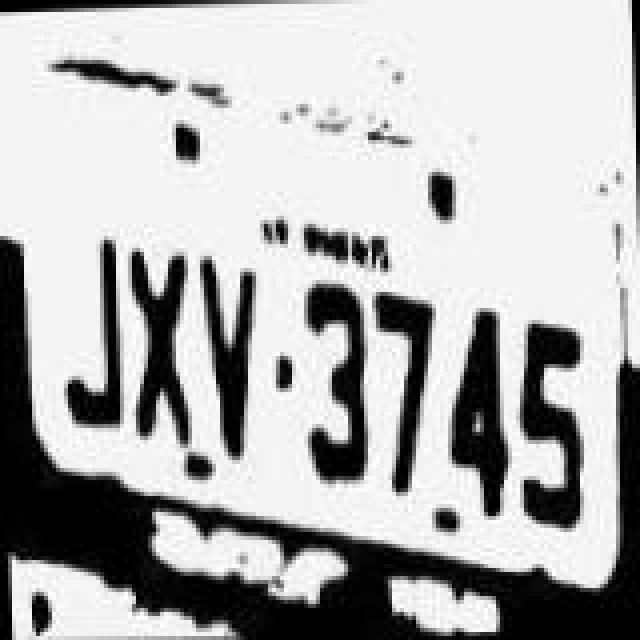3: (292, 270, 368, 510)
4: (438, 290, 514, 526)
5: (510, 308, 594, 548)
7: (366, 280, 438, 512)
J: (48, 220, 128, 452)
V: (196, 254, 272, 470)
X: (118, 238, 194, 462)
